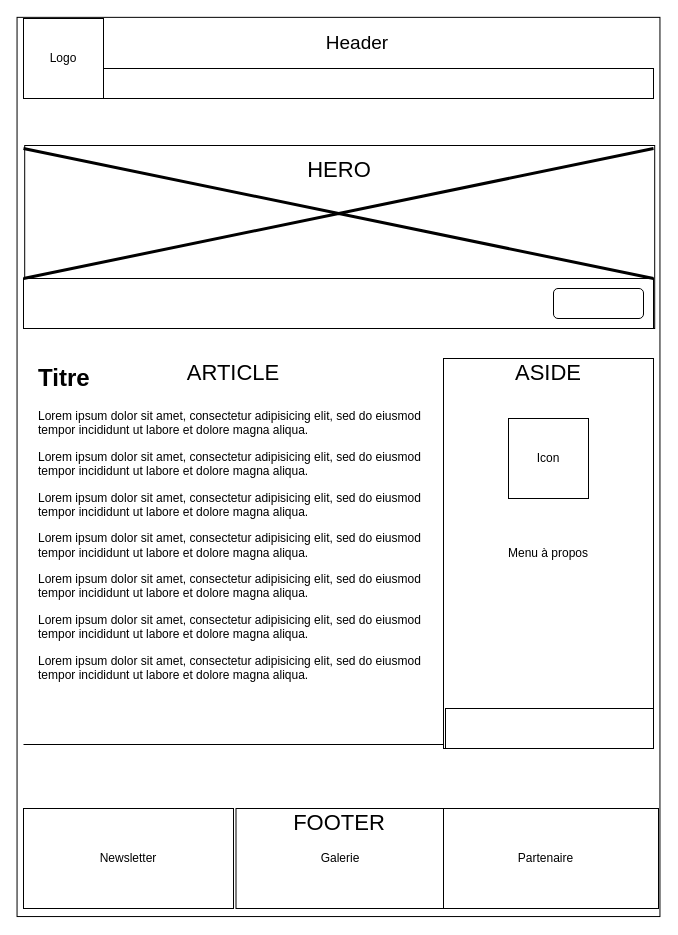
The diagram is 678 pixels wide and 935 high, and some of its shapes have lost their labels. Here are the shapes that lost their labels. From the top down, the centre of each, then its label:
point (378, 83): Navigation menu
point (598, 303): Redirect bouton
point (549, 728): Social Menu
